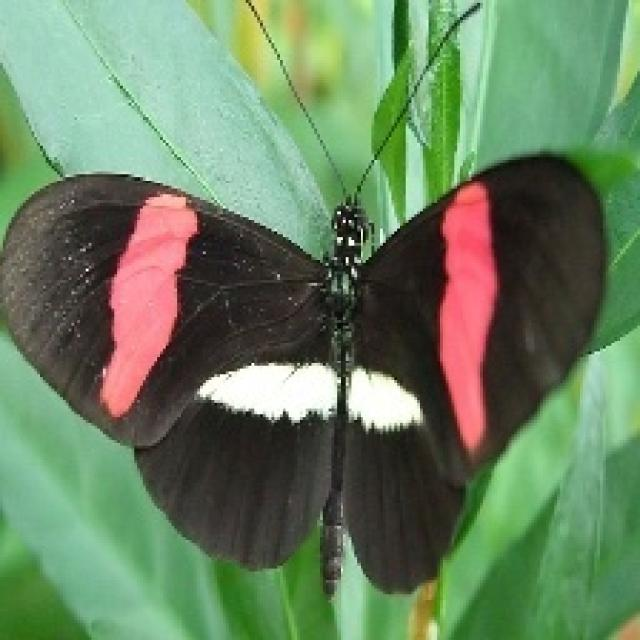butterfly: (0, 0, 609, 600)
